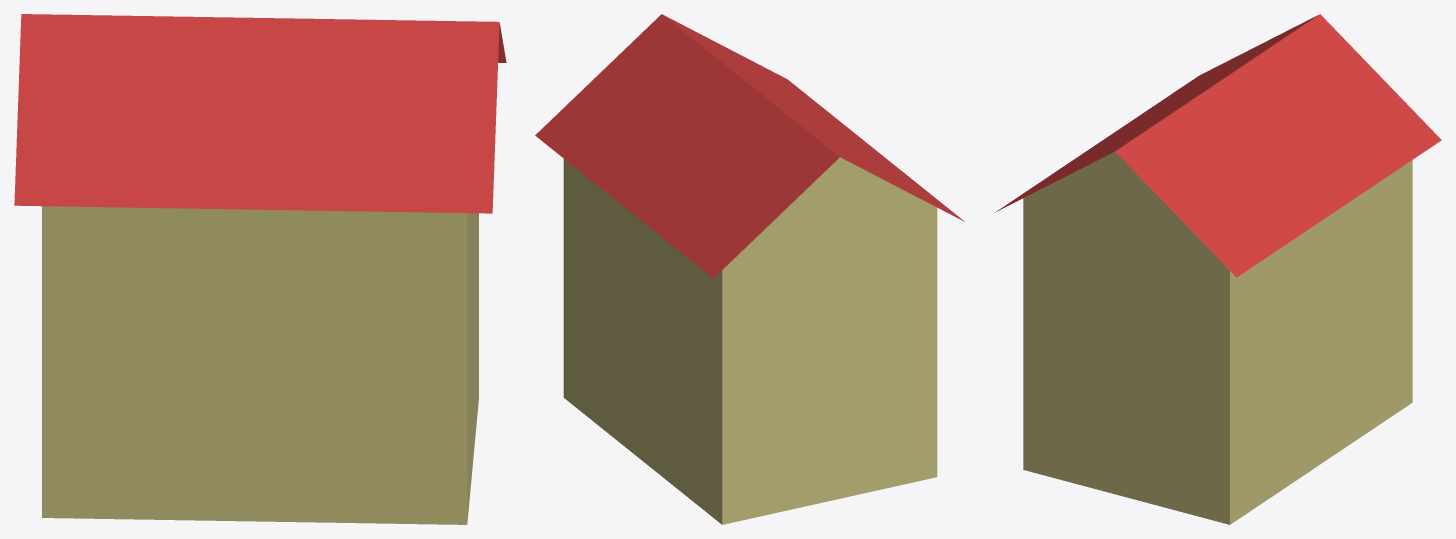
3 renders of one model, left to right at view 1: azimuth 30°, elevation 25°; view 2: azimuth 150°, elevation 25°; view 3: azimuth 270°, elevation 25°, orthographic. The views are drawn at different scales.
Visible parts, largest first — view 1: group_5, group_3, group_4; view 2: group_5, group_3, group_4; view 3: group_5, group_3, group_4.
Part boxes in pixels (x1=…): group_5: x1=42, y1=206, x2=478, y2=524; group_3: x1=14, y1=14, x2=506, y2=213; group_4: x1=101, y1=21, x2=499, y2=213; group_5: x1=563, y1=157, x2=937, y2=524; group_3: x1=538, y1=14, x2=964, y2=259; group_4: x1=535, y1=14, x2=846, y2=278; group_5: x1=1023, y1=151, x2=1412, y2=524; group_3: x1=1001, y1=15, x2=1412, y2=275; group_4: x1=995, y1=14, x2=1441, y2=277.
Size of the model in its own units: 16.91 by 15.82 by 13.78.
